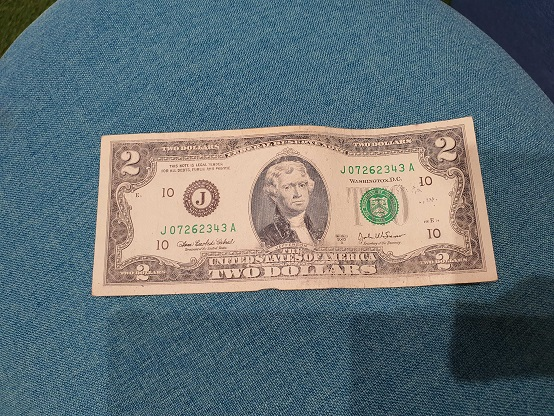2dollar: (90, 115, 498, 296)
